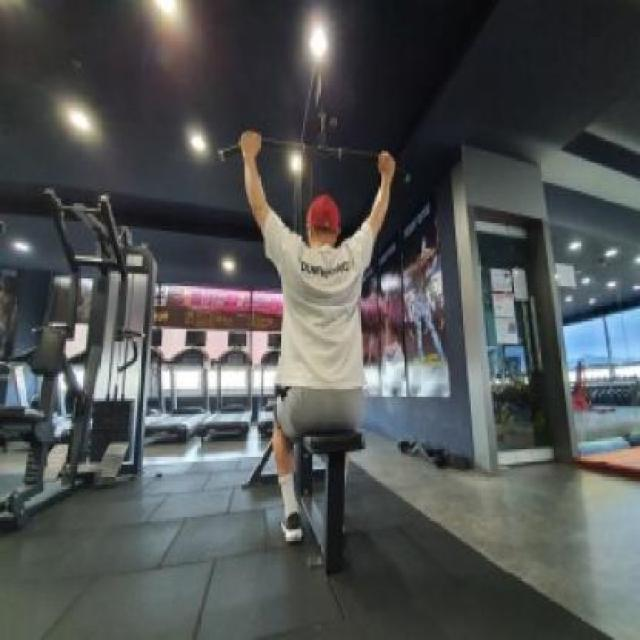Lat Pull Down: (168, 0, 466, 606)
